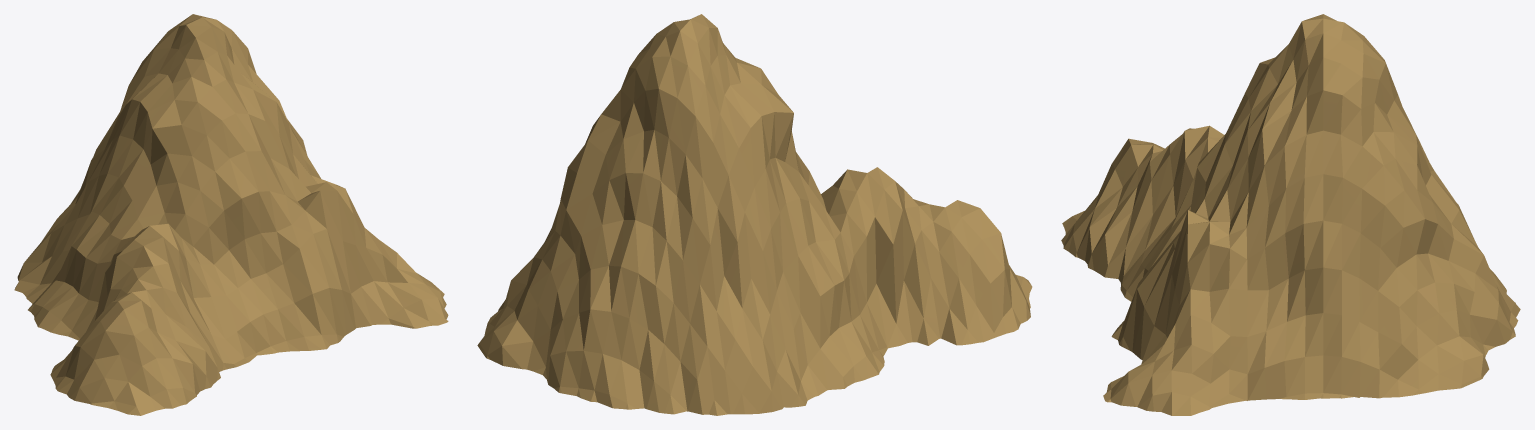
Rendered from Terrain_Mountain_Dirt_01.fbx.
The picture shows the model from 3 angles, left to right: view 1: azimuth 30°, elevation 25°; view 2: azimuth 150°, elevation 25°; view 3: azimuth 270°, elevation 25°; orthographic projection. The views are drawn at different scales.
Visible parts, largest first — view 1: Terrain_Mountain_Dirt_01; view 2: Terrain_Mountain_Dirt_01; view 3: Terrain_Mountain_Dirt_01.
Boxes of the visible parts, <box> form: Terrain_Mountain_Dirt_01: <box>14,14,448,415</box>; Terrain_Mountain_Dirt_01: <box>477,14,1032,415</box>; Terrain_Mountain_Dirt_01: <box>1061,14,1520,415</box>.
Bounding box in the file's own units: 24863 × 16492 × 22676.
